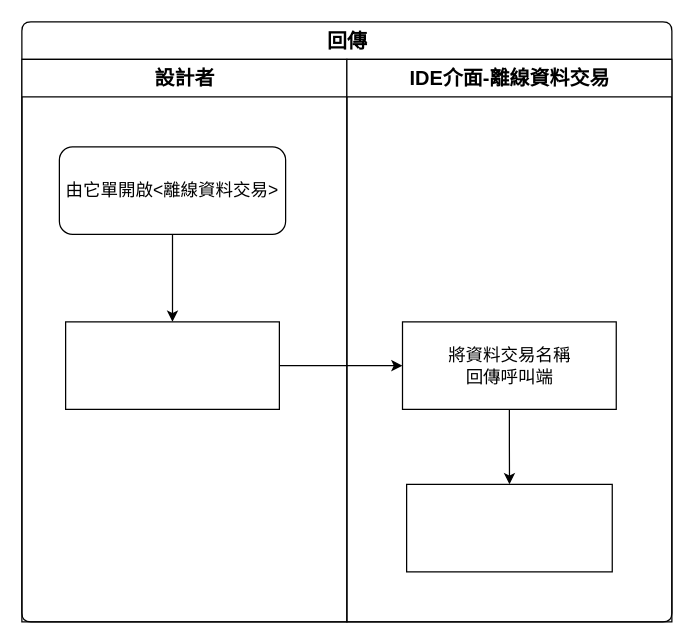
The diagram is 694 pixels wide and 644 high, and some of its shapes have lost their labels. The centre of each missing label's shape, as x and y in pixels:
"關閉表單" belongs at pixel 508 527.
"駐留 清單 中任一筆記錄 執行按鍵.回傳" belongs at pixel 171 365.
